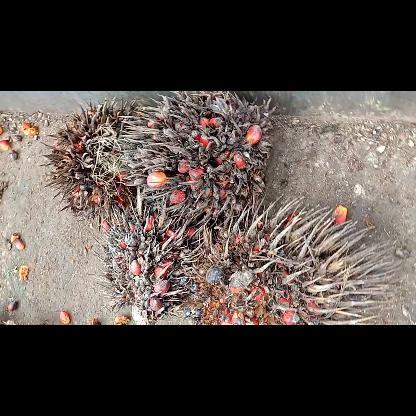Terlalu masak: (170, 188, 400, 324), (116, 91, 280, 229), (88, 186, 204, 324), (36, 97, 150, 227)
